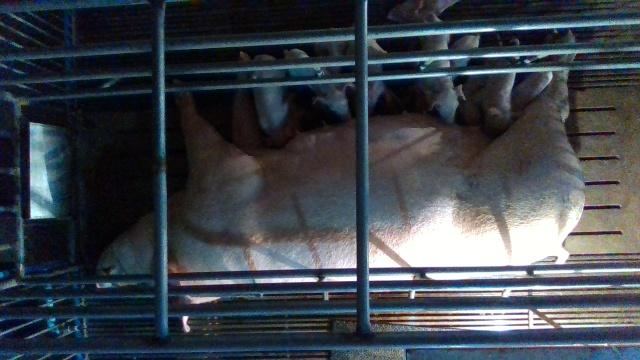piglet: (283, 48, 356, 121), (418, 19, 465, 126), (252, 56, 293, 148), (474, 55, 516, 140), (348, 39, 386, 116)
sow-sleep-lactate: (86, 34, 585, 334)
